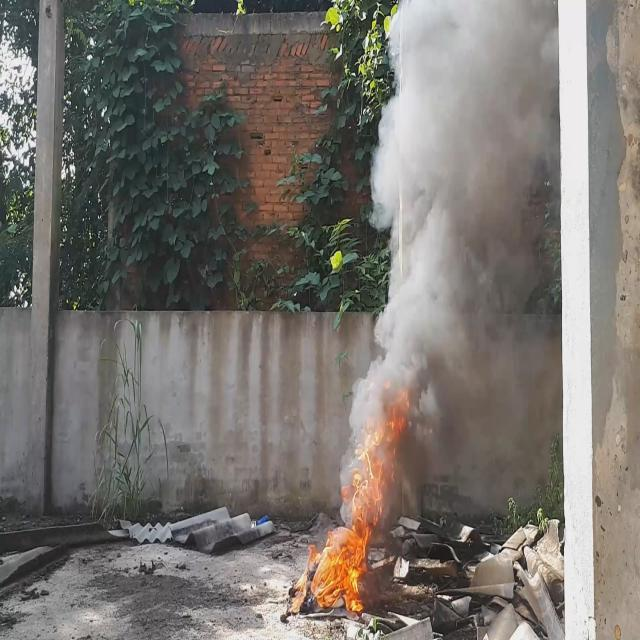Fire: (309, 381, 412, 609)
Smoke: (342, 0, 558, 529)
